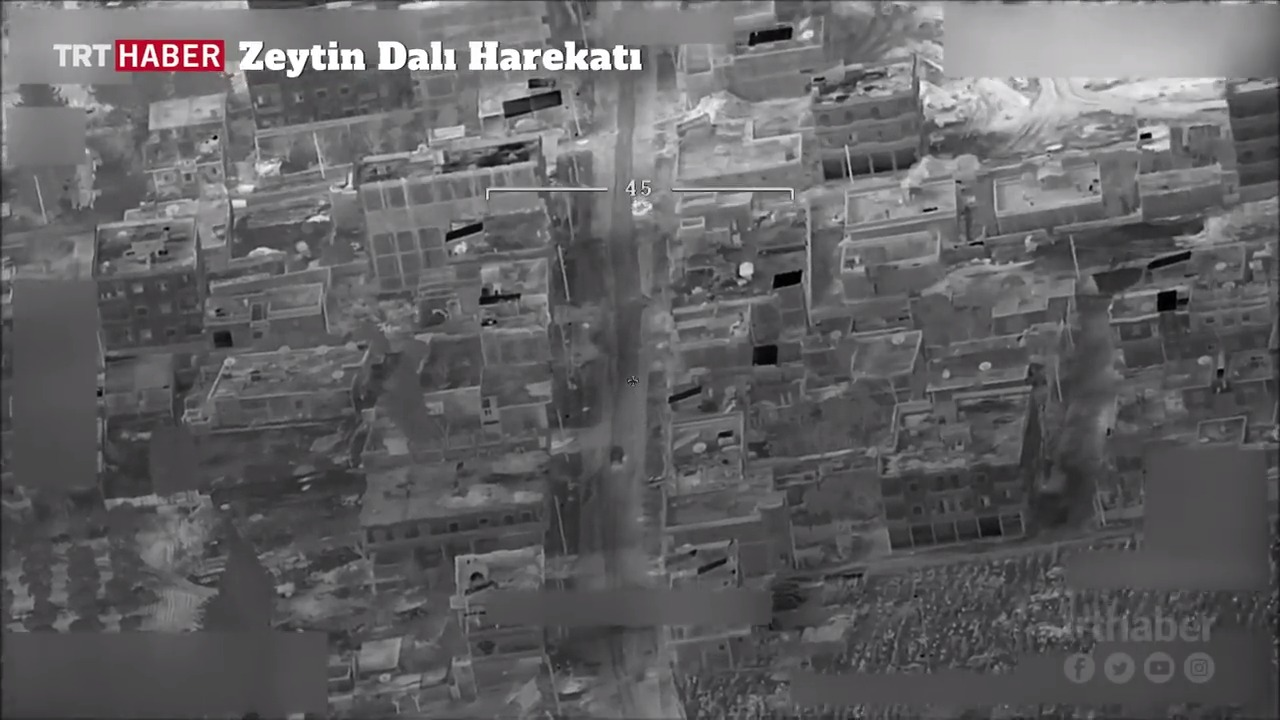arac: (601, 439, 636, 482)
bina: (872, 374, 1045, 557), (198, 325, 388, 439), (986, 143, 1123, 241)
